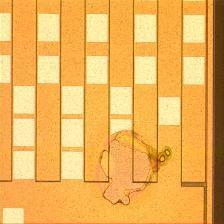COATING BAD: (84, 121, 180, 217)
